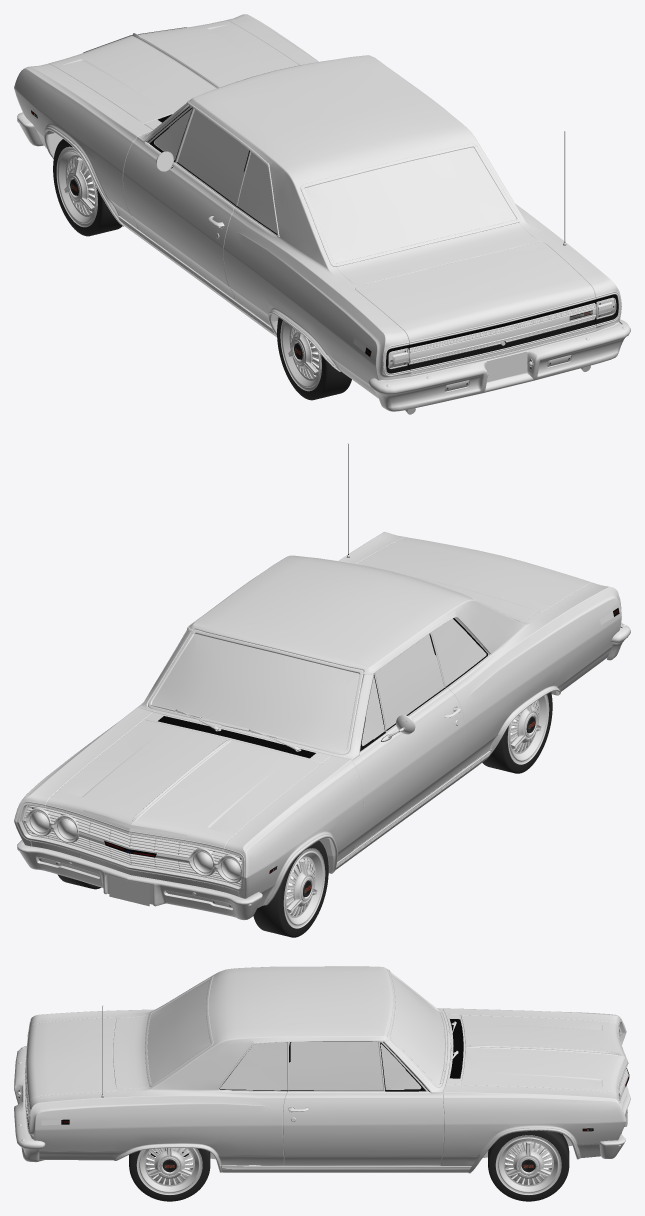
The model's file is MCLA_VPD_CHV_MALIBU_65.glb.
3 renders of one model, top to bottom at view 1: azimuth 30°, elevation 25°; view 2: azimuth 150°, elevation 25°; view 3: azimuth 270°, elevation 25°, orthographic. The views are drawn at different scales.
Parts seen in each view (by area): view 1: vpd_chv_malibu_65/resources/vehicle/vpd_chv_malibu_65/fender, vpd_chv_malibu_65/resources/vehicle/vpd_chv_malibu_65/body_l (×2), vpd_chv_malibu_65/resources/vehicle/vpd_chv_malibu_65/trunk_, vpd_chv_malibu_65/resources/vehicle/vpd_chv_malibu_65/hood0_, vpd_chv_malibu_65/resources/vehicle/vpd_chv_malibu_65/door_l, vpd_chv_malibu_65/resources/vehicle/vpd_chv_malibu_65/bumper, vpd_chv_malibu_65/resources/vehicle/vpd_chv_malibu_65/tailli (×2), shared/resources/rims/whld_stk_chv_malibu_65@axl_0/model0, shared/resources/rims/whld_stk_chv_malibu_65@axl_2/model0, shared/resources/tires/models/tir_car@axl_2/model0, shared/resources/tires/models/tir_car@axl_0/model0, vpd_chv_malibu_65/resources/vehicle/vpd_chv_malibu_65/skirts; view 2: vpd_chv_malibu_65/resources/vehicle/vpd_chv_malibu_65/fender, vpd_chv_malibu_65/resources/vehicle/vpd_chv_malibu_65/body_l (×3), vpd_chv_malibu_65/resources/vehicle/vpd_chv_malibu_65/hood0_, vpd_chv_malibu_65/resources/vehicle/vpd_chv_malibu_65/door_l, vpd_chv_malibu_65/resources/vehicle/vpd_chv_malibu_65/trunk_, vpd_chv_malibu_65/resources/vehicle/vpd_chv_malibu_65/headli (×3), vpd_chv_malibu_65/resources/vehicle/vpd_chv_malibu_65/bumper, shared/resources/rims/whld_stk_chv_malibu_65@axl_0/model0, shared/resources/rims/whld_stk_chv_malibu_65@axl_2/model0, shared/resources/tires/models/tir_car@axl_0/model0, shared/resources/tires/models/tir_car@axl_2/model0, vpd_chv_malibu_65/resources/vehicle/vpd_chv_malibu_65/skirts; view 3: vpd_chv_malibu_65/resources/vehicle/vpd_chv_malibu_65/fender, vpd_chv_malibu_65/resources/vehicle/vpd_chv_malibu_65/body_l (×3), vpd_chv_malibu_65/resources/vehicle/vpd_chv_malibu_65/door_r, vpd_chv_malibu_65/resources/vehicle/vpd_chv_malibu_65/hood0_, vpd_chv_malibu_65/resources/vehicle/vpd_chv_malibu_65/trunk_, shared/resources/rims/whld_stk_chv_malibu_65@axl_1/model0, shared/resources/rims/whld_stk_chv_malibu_65@axl_3/model0, vpd_chv_malibu_65/resources/vehicle/vpd_chv_malibu_65/bumper (×2), shared/resources/tires/models/tir_car@axl_1/model0, vpd_chv_malibu_65/resources/vehicle/vpd_chv_malibu_65/skirts, shared/resources/tires/models/tir_car@axl_3/model0.
Boxes of the visible parts, bbox=[...] form: vpd_chv_malibu_65/resources/vehicle/vpd_chv_malibu_65/fender: bbox=[14, 14, 621, 398]; vpd_chv_malibu_65/resources/vehicle/vpd_chv_malibu_65/body_l (×2): bbox=[177, 110, 516, 263]; vpd_chv_malibu_65/resources/vehicle/vpd_chv_malibu_65/trunk_: bbox=[355, 242, 596, 374]; vpd_chv_malibu_65/resources/vehicle/vpd_chv_malibu_65/hood0_: bbox=[48, 20, 299, 123]; vpd_chv_malibu_65/resources/vehicle/vpd_chv_malibu_65/door_l: bbox=[123, 106, 236, 299]; vpd_chv_malibu_65/resources/vehicle/vpd_chv_malibu_65/bumper: bbox=[368, 319, 630, 411]; vpd_chv_malibu_65/resources/vehicle/vpd_chv_malibu_65/tailli (×2): bbox=[386, 294, 618, 373]; shared/resources/rims/whld_stk_chv_malibu_65@axl_0/model0: bbox=[56, 146, 97, 227]; shared/resources/rims/whld_stk_chv_malibu_65@axl_2/model0: bbox=[280, 320, 321, 391]; shared/resources/tires/models/tir_car@axl_2/model0: bbox=[277, 317, 351, 400]; shared/resources/tires/models/tir_car@axl_0/model0: bbox=[53, 139, 122, 236]; vpd_chv_malibu_65/resources/vehicle/vpd_chv_malibu_65/skirts: bbox=[118, 216, 276, 337]; vpd_chv_malibu_65/resources/vehicle/vpd_chv_malibu_65/fender: bbox=[14, 532, 621, 908]; vpd_chv_malibu_65/resources/vehicle/vpd_chv_malibu_65/body_l (×3): bbox=[152, 619, 486, 758]; vpd_chv_malibu_65/resources/vehicle/vpd_chv_malibu_65/hood0_: bbox=[45, 719, 322, 851]; vpd_chv_malibu_65/resources/vehicle/vpd_chv_malibu_65/door_l: bbox=[352, 673, 464, 849]; vpd_chv_malibu_65/resources/vehicle/vpd_chv_malibu_65/trunk_: bbox=[357, 537, 591, 611]; vpd_chv_malibu_65/resources/vehicle/vpd_chv_malibu_65/headli (×3): bbox=[22, 805, 241, 886]; vpd_chv_malibu_65/resources/vehicle/vpd_chv_malibu_65/bumper: bbox=[17, 840, 262, 920]; shared/resources/rims/whld_stk_chv_malibu_65@axl_0/model0: bbox=[283, 848, 325, 928]; shared/resources/rims/whld_stk_chv_malibu_65@axl_2/model0: bbox=[507, 694, 549, 764]; shared/resources/tires/models/tir_car@axl_0/model0: bbox=[253, 841, 328, 937]; shared/resources/tires/models/tir_car@axl_2/model0: bbox=[482, 692, 552, 773]; vpd_chv_malibu_65/resources/vehicle/vpd_chv_malibu_65/skirts: bbox=[335, 750, 490, 870]; vpd_chv_malibu_65/resources/vehicle/vpd_chv_malibu_65/fender: bbox=[24, 966, 628, 1173]; vpd_chv_malibu_65/resources/vehicle/vpd_chv_malibu_65/body_l (×3): bbox=[147, 975, 463, 1090]; vpd_chv_malibu_65/resources/vehicle/vpd_chv_malibu_65/door_r: bbox=[283, 1042, 444, 1165]; vpd_chv_malibu_65/resources/vehicle/vpd_chv_malibu_65/hood0_: bbox=[460, 1015, 628, 1097]; vpd_chv_malibu_65/resources/vehicle/vpd_chv_malibu_65/trunk_: bbox=[25, 1017, 116, 1124]; shared/resources/rims/whld_stk_chv_malibu_65@axl_1/model0: bbox=[495, 1135, 561, 1195]; shared/resources/rims/whld_stk_chv_malibu_65@axl_3/model0: bbox=[136, 1148, 202, 1195]; vpd_chv_malibu_65/resources/vehicle/vpd_chv_malibu_65/bumper (×2): bbox=[14, 1046, 630, 1161]; shared/resources/tires/models/tir_car@axl_1/model0: bbox=[488, 1131, 569, 1201]; vpd_chv_malibu_65/resources/vehicle/vpd_chv_malibu_65/skirts: bbox=[222, 1165, 471, 1172]; shared/resources/tires/models/tir_car@axl_3/model0: bbox=[129, 1148, 210, 1201].
Size of the model in its own units: 1.91 by 1.72 by 4.95.
143 materials, 63 textured.
